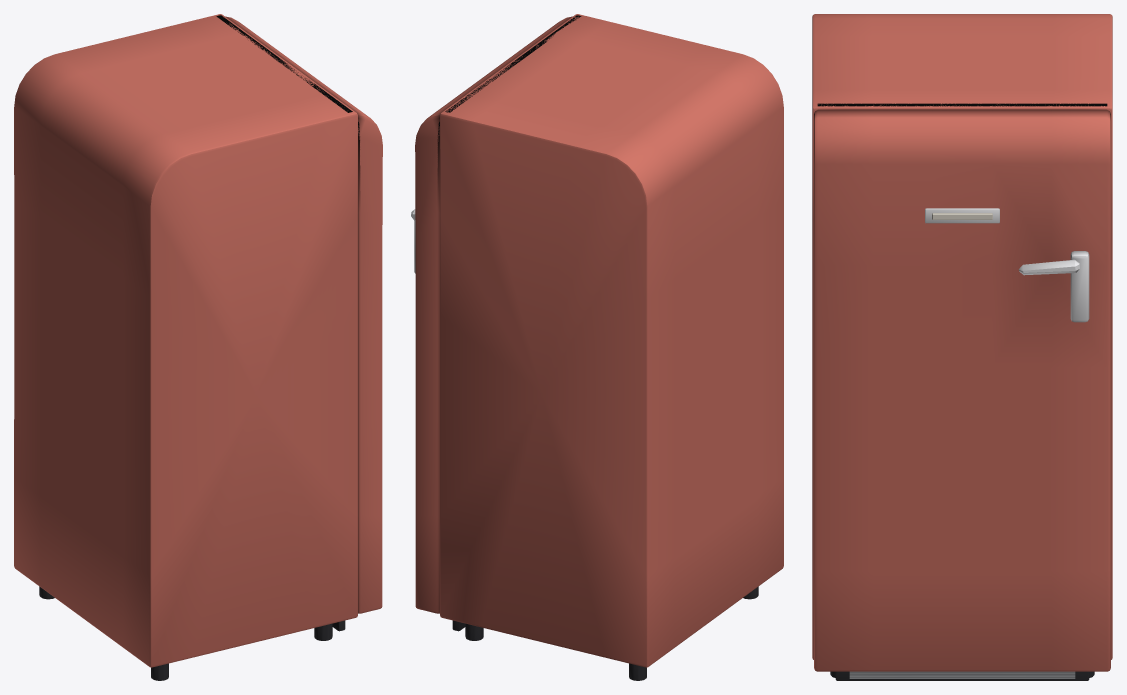
The model's file is nd_fridge.glb.
3 renders of one model, left to right at view 1: azimuth 30°, elevation 25°; view 2: azimuth 150°, elevation 25°; view 3: azimuth 270°, elevation 25°, orthographic. The views are drawn at different scales.
Parts seen in each view (by area): view 1: PART, P_door; view 2: PART, P_door; view 3: P_door, PART.
Part boxes in pixels (x1,y1,x2,y2): PART: (14,14,357,680); P_door: (216,15,382,613); PART: (440,14,783,680); P_door: (411,15,581,613); P_door: (814,103,1110,671); PART: (812,14,1112,680).
Bounding box in the file's own units: 0.6818 × 1.36 × 0.64.
